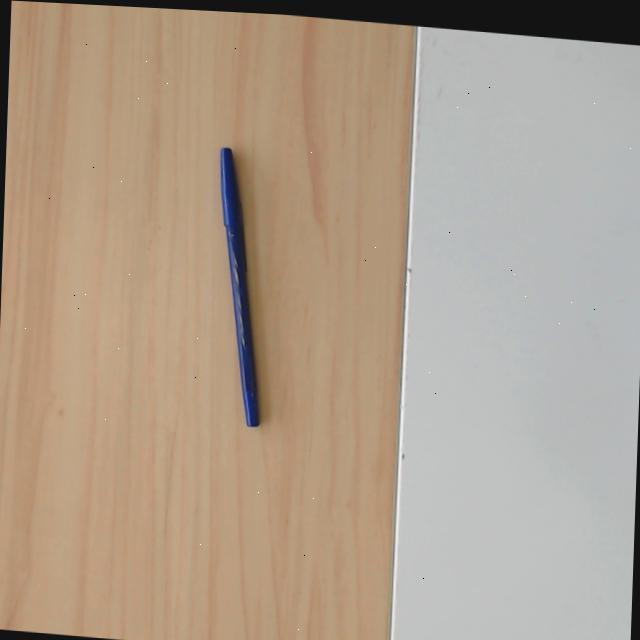Pulpen-Biru: (216, 144, 260, 427)
